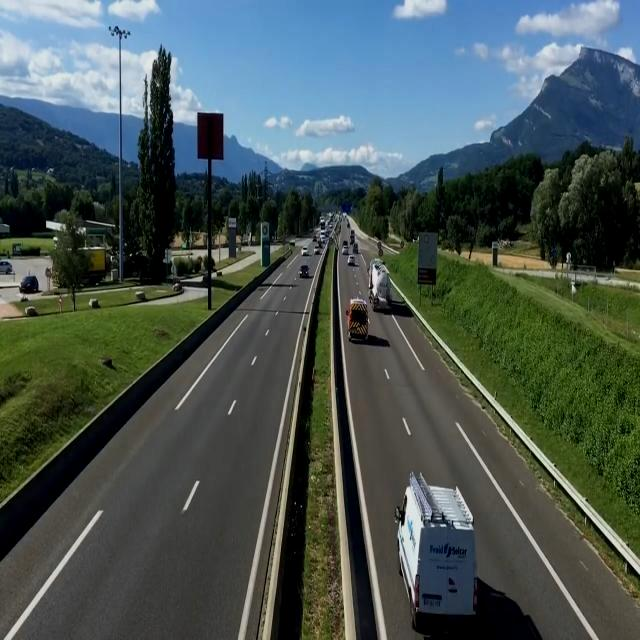Car: (300, 264, 310, 278), (300, 246, 310, 257), (347, 255, 357, 266)
Truck: (368, 256, 393, 309)
Van: (392, 478, 482, 622), (346, 297, 371, 343)
